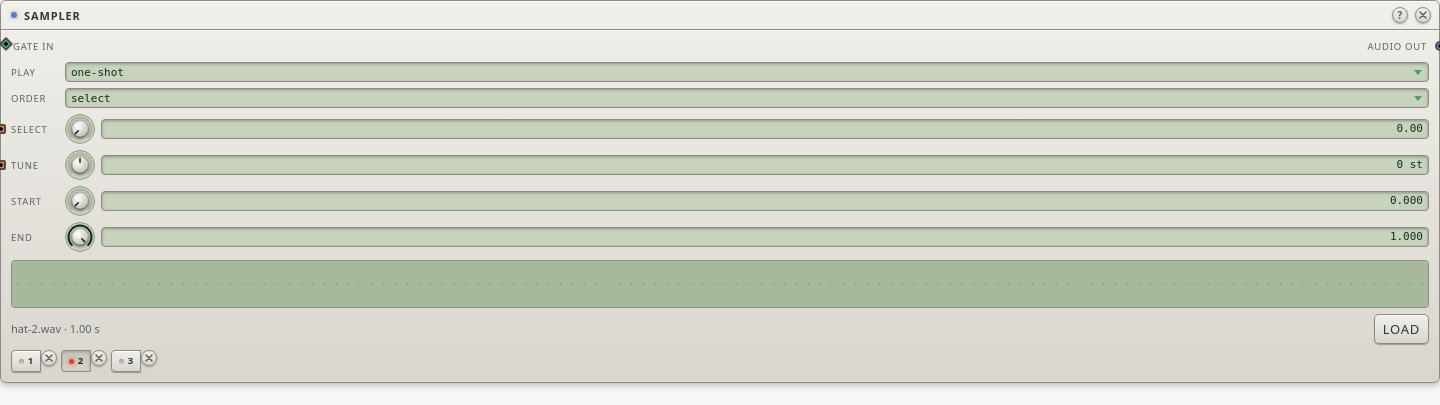
Test: ModuleNode › a sampler › with several samples › shows a slot for each sample, lit on the one that plays, and the one picked on the screen
The image size is (1440, 405).
Check: the message named "Sample file" reads "hat-2.wav · 1.00 s", box [11,321,100,336]
Click the button "3" at (126, 361), box [111,350,141,372]
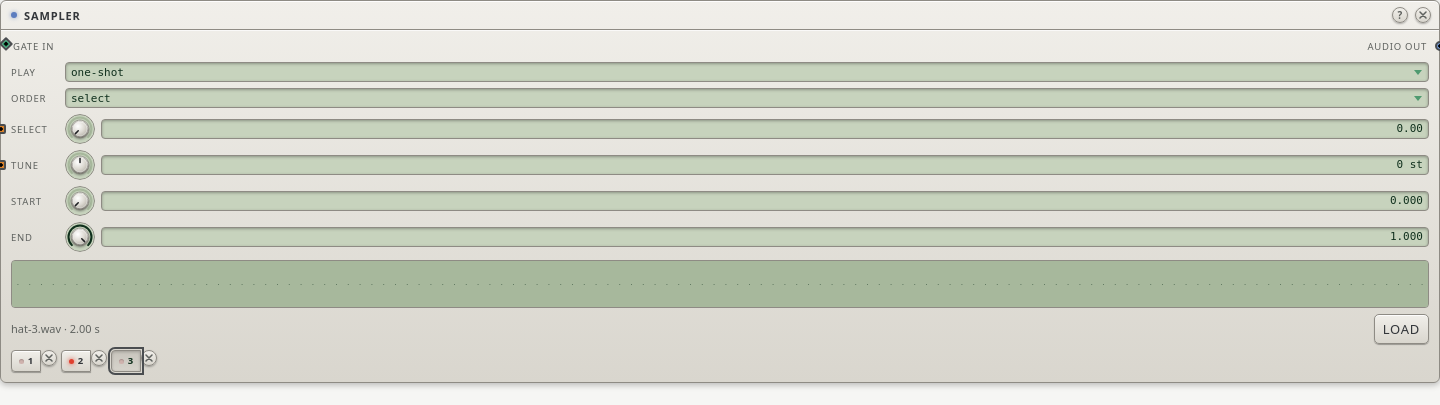
Check: the message named "Sample file" reads "hat-3.wav · 2.00 s", box [11,321,100,336]
